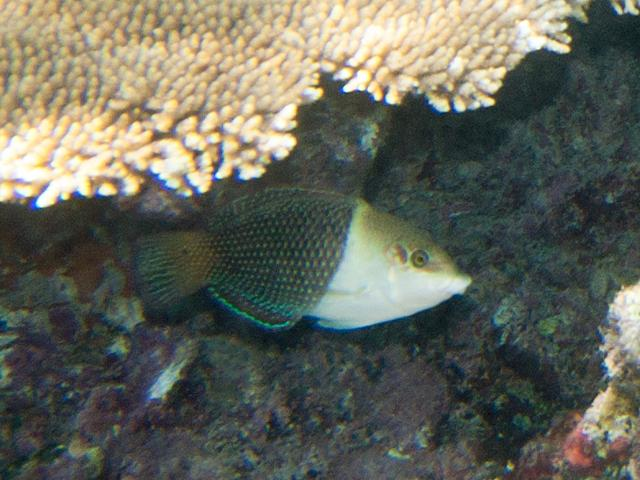fish: (112, 138, 492, 353)
